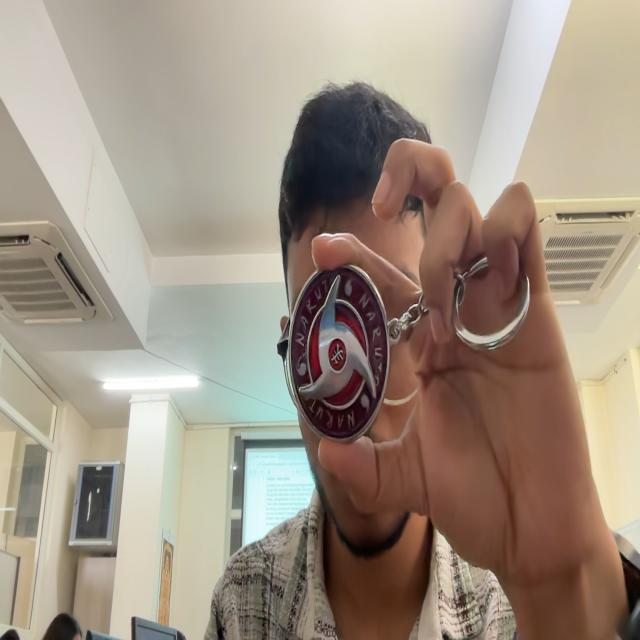dangerous: (278, 265, 428, 441), (452, 257, 530, 350)
